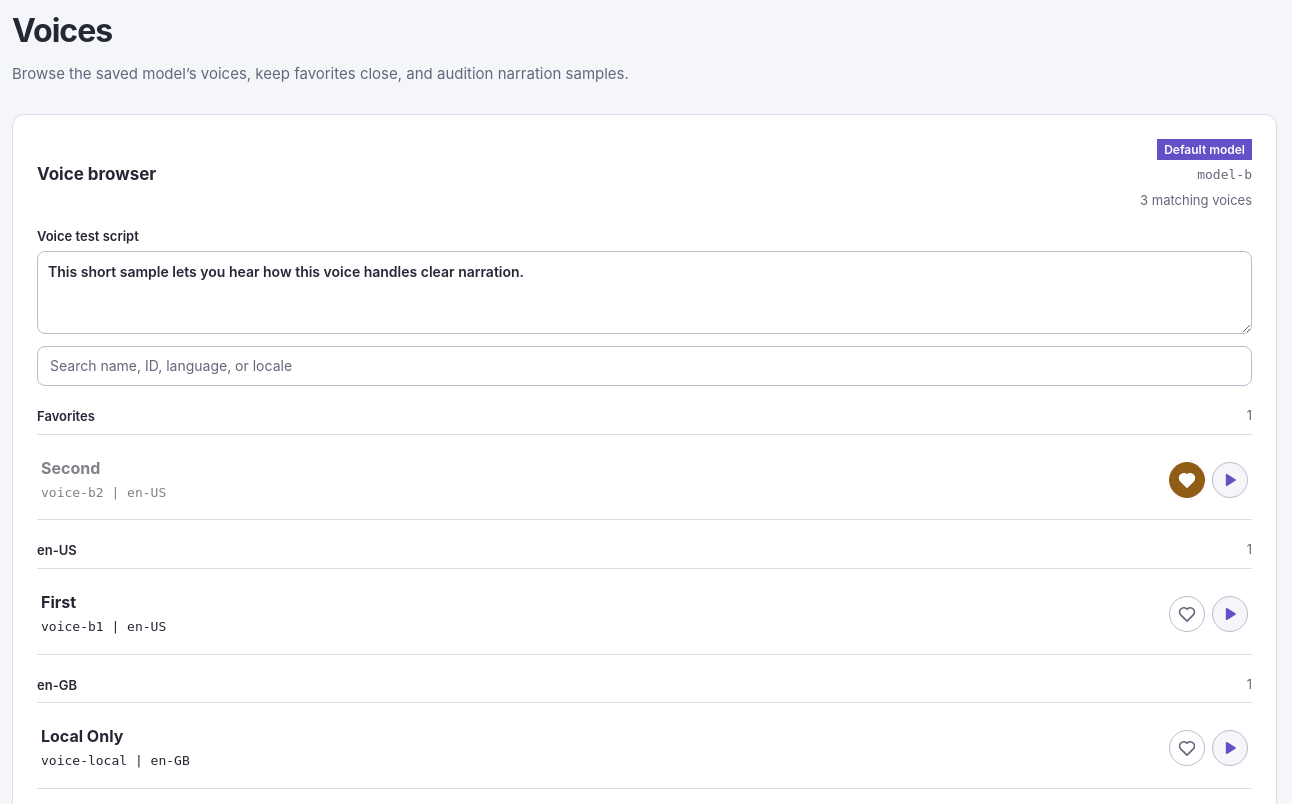
Test: Voices settings › searches locales and persists favorites with rollback on failure
Expected: the text "Second" is shown, [41, 458, 100, 478]
Expected: the element named "en-GB voices" shows "Local Only", [41, 726, 123, 746]
Type "en-US" into the field named "Search voice catalog".
click(644, 366); type("en-US")  # box [37, 346, 1252, 386]
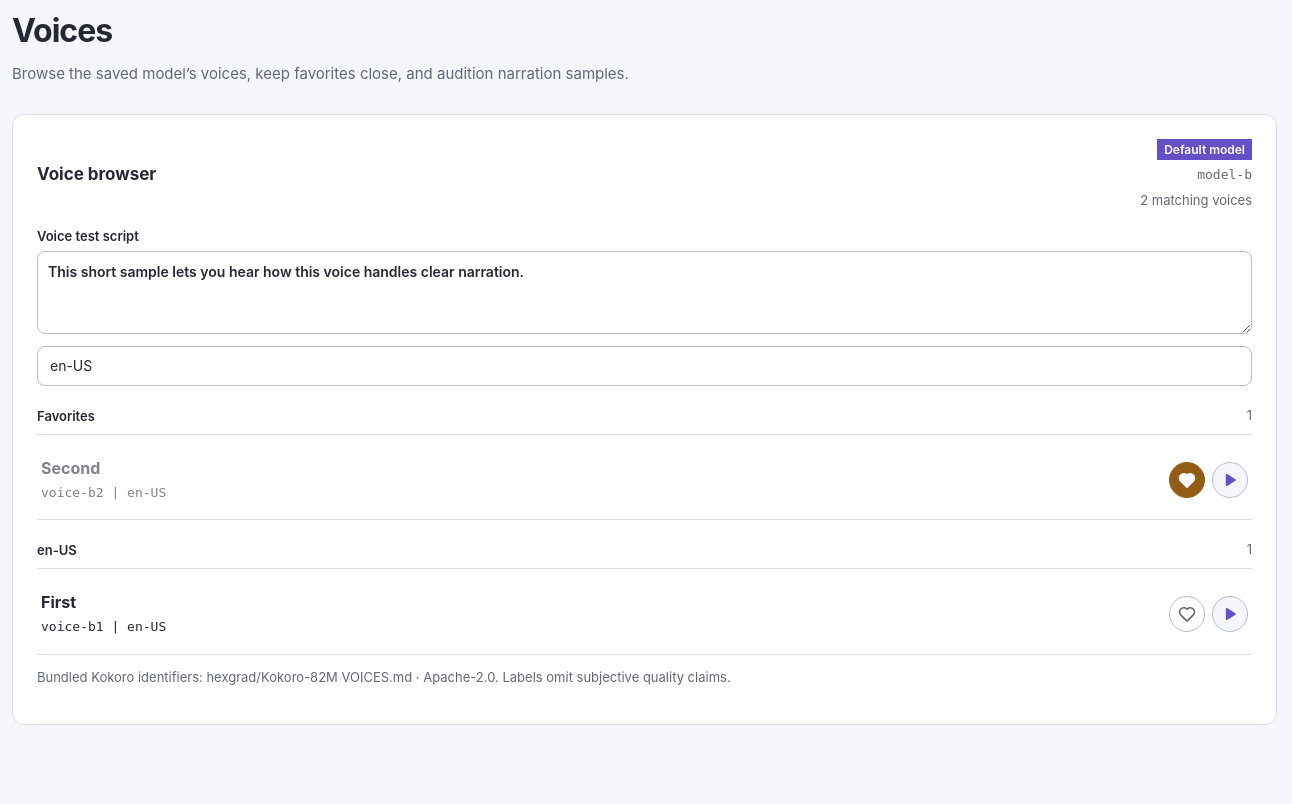
Expected: the element named "Favorites voices" shows "Second", [41, 458, 100, 478]
Click the button named "Add First to favorites".
click(1187, 614)  # box [1169, 596, 1205, 632]
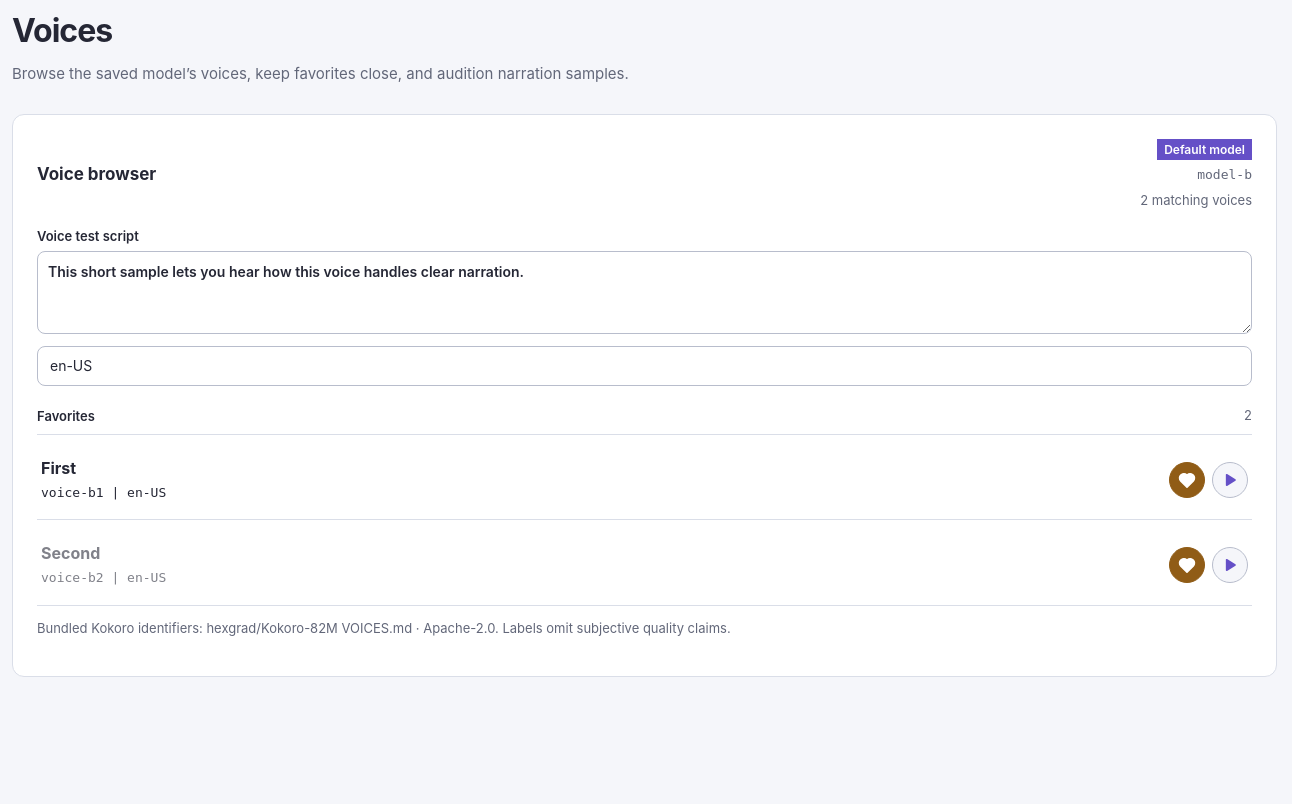
Expected: the text "First" is shown, [41, 458, 76, 478]
Click the button named "Remove First from favorites".
click(1187, 480)  # box [1169, 462, 1205, 498]
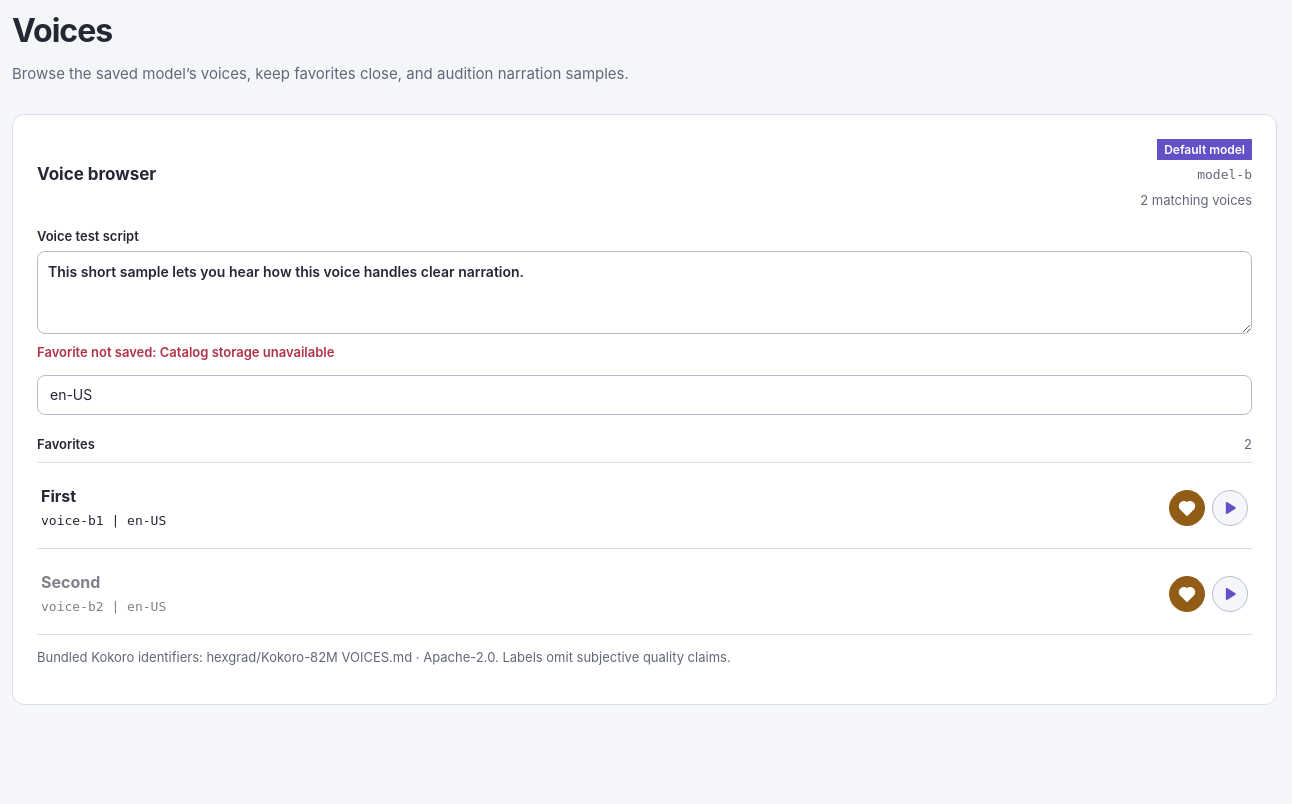
Expected: the message reads "Favorite not saved: Catalog storage unavailable", [37, 344, 334, 360]
